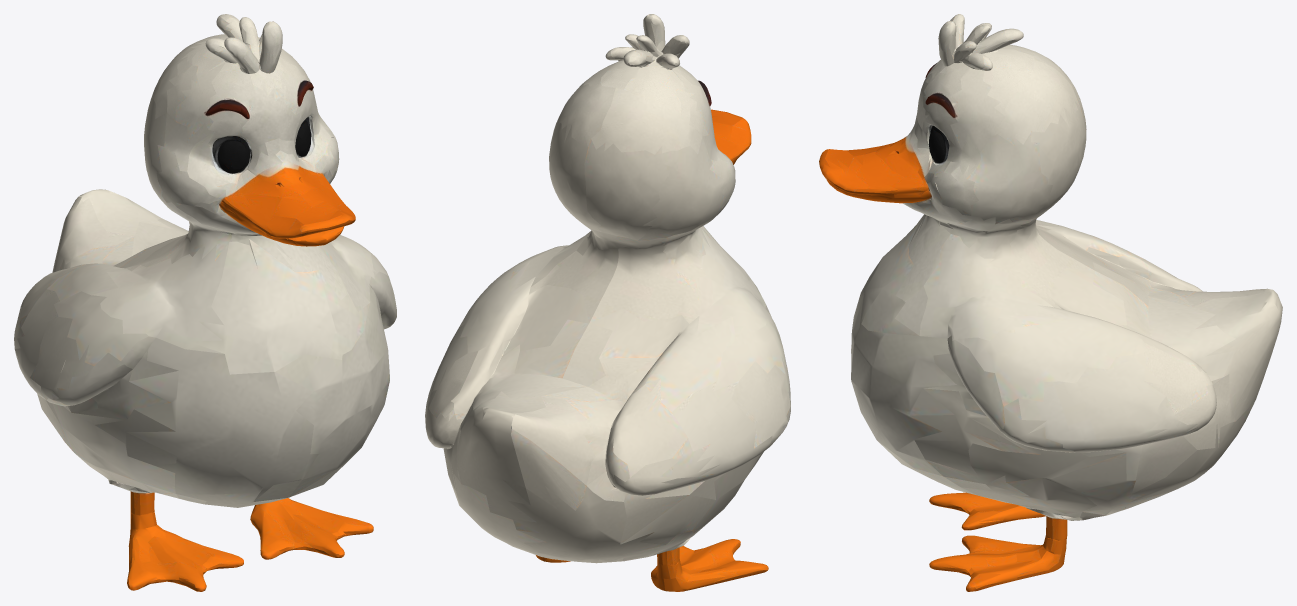
The model's file is duck.glb.
3 views of the same model, side by side, from view 1: azimuth 30°, elevation 25°; view 2: azimuth 150°, elevation 25°; view 3: azimuth 270°, elevation 25° (orthographic). The views are drawn at different scales.
Parts seen in each view (by area): view 1: output_unwrapped; view 2: output_unwrapped; view 3: output_unwrapped.
Boxes of the visible parts, x1,y1,x2,y2 form: output_unwrapped: [14, 14, 396, 591]; output_unwrapped: [425, 14, 790, 591]; output_unwrapped: [819, 14, 1282, 591].
Size of the model in its own units: 1.23 by 1.9 by 1.53.
1 material, 1 textured.
